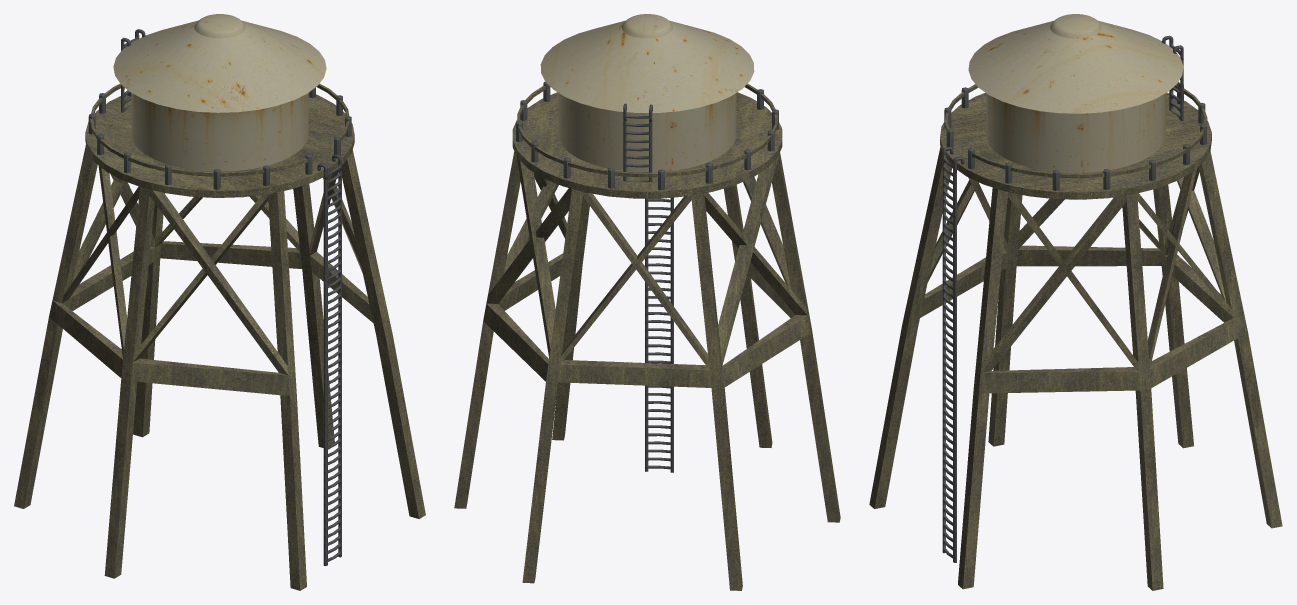
The picture shows the model from 3 angles, left to right: view 1: azimuth 30°, elevation 25°; view 2: azimuth 150°, elevation 25°; view 3: azimuth 270°, elevation 25°; orthographic projection.
Parts seen in each view (by area): view 1: Cube004_metal2_0, watertower001_metalrstt_0, Circle003_metal2_0, Circle009_metal3_0, Circle004_metal3_0, Circle006_metalrstt_0; view 2: Cube004_metal2_0, watertower001_metalrstt_0, Circle003_metal2_0, Circle009_metal3_0, Circle004_metal3_0, Circle006_metalrstt_0, Circle007_metal3_0; view 3: Cube004_metal2_0, watertower001_metalrstt_0, Circle003_metal2_0, Circle009_metal3_0, Circle004_metal3_0, Circle006_metalrstt_0.
Boxes of the visible parts, x1,y1,x2,y2 form: Cube004_metal2_0: (14, 145, 425, 590); watertower001_metalrstt_0: (113, 20, 326, 171); Circle003_metal2_0: (85, 83, 354, 197); Circle009_metal3_0: (323, 170, 341, 565); Circle004_metal3_0: (88, 87, 351, 189); Circle006_metalrstt_0: (194, 14, 245, 38); Cube004_metal2_0: (454, 151, 840, 590); watertower001_metalrstt_0: (540, 20, 754, 172); Circle003_metal2_0: (512, 83, 782, 198); Circle009_metal3_0: (645, 197, 673, 472); Circle004_metal3_0: (516, 81, 778, 190); Circle006_metalrstt_0: (622, 14, 672, 38); Circle007_metal3_0: (623, 120, 652, 182); Cube004_metal2_0: (869, 147, 1282, 590); watertower001_metalrstt_0: (968, 20, 1183, 172); Circle003_metal2_0: (940, 84, 1211, 199); Circle009_metal3_0: (942, 162, 956, 562); Circle004_metal3_0: (944, 85, 1206, 190); Circle006_metalrstt_0: (1050, 14, 1101, 38).
Size of the model in its own units: 11.95 by 18.93 by 13.82.
Materials: 3 (3 with a texture image).
